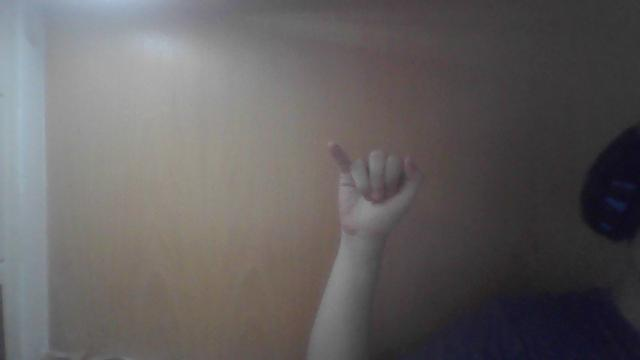Right: (313, 141, 433, 241)
